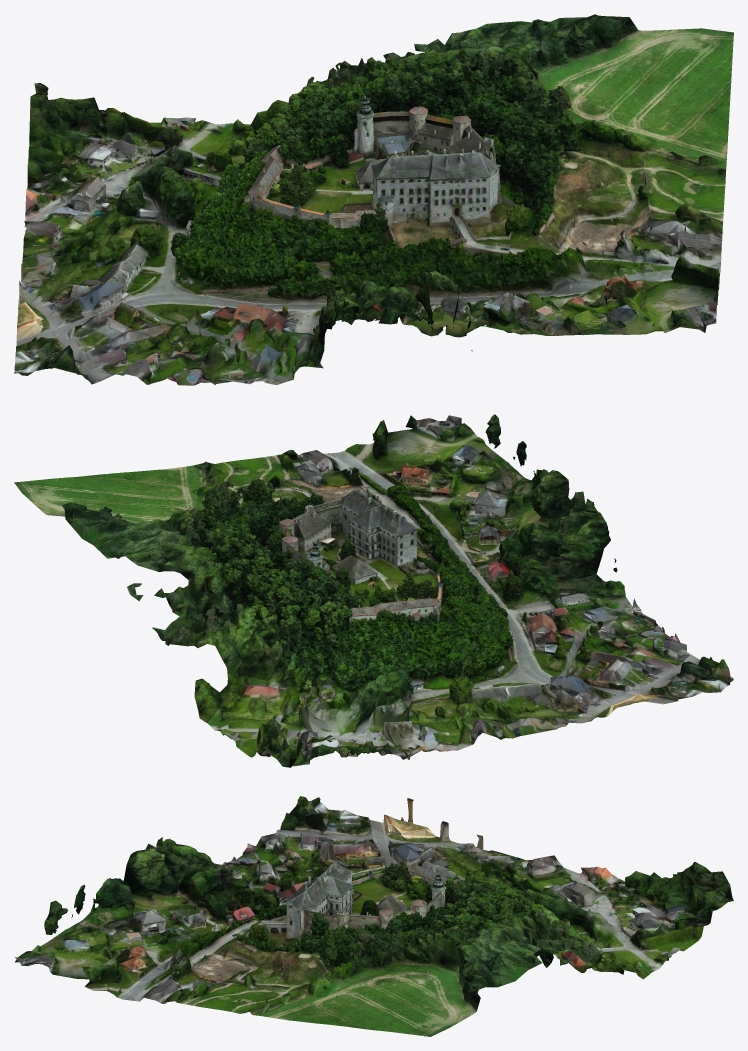
File: usov-ar-v1.glb
3 views of the same model, one above another, from view 1: azimuth 30°, elevation 25°; view 2: azimuth 150°, elevation 25°; view 3: azimuth 270°, elevation 25° (orthographic). The views are drawn at different scales.
Size of the model in its own units: 427 by 72.69 by 411.
1 material, 1 textured.
